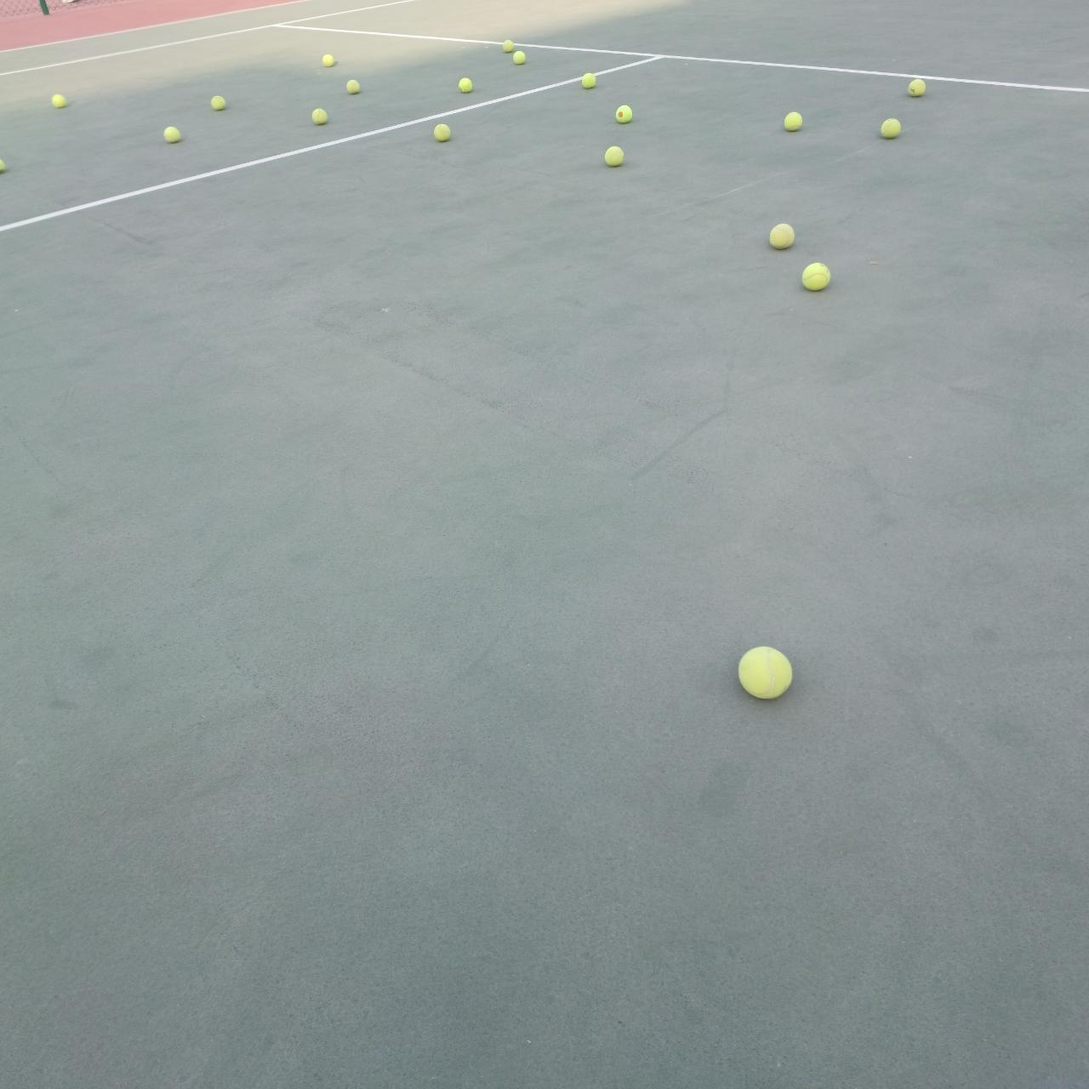tennis-ball: (736, 642, 793, 700), (800, 259, 830, 291), (767, 220, 794, 248), (602, 144, 624, 167), (879, 116, 901, 138), (783, 109, 802, 131), (906, 77, 925, 96), (432, 121, 451, 140), (162, 124, 180, 143), (311, 105, 328, 124), (616, 105, 632, 123), (457, 76, 473, 94), (209, 93, 225, 110), (345, 77, 360, 94), (581, 73, 596, 89), (51, 94, 66, 108), (513, 51, 526, 65), (502, 40, 515, 53), (322, 54, 335, 67), (0, 158, 6, 172)
